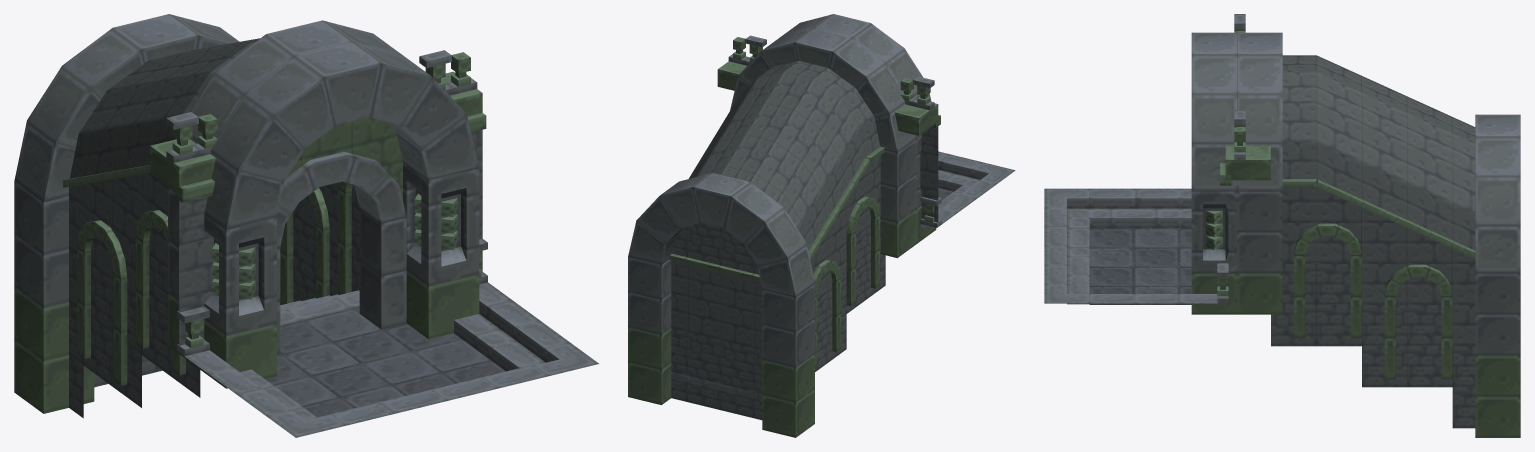
File: exit_2_stairs_down_green.fbx
The picture shows the model from 3 angles, left to right: view 1: azimuth 30°, elevation 25°; view 2: azimuth 150°, elevation 25°; view 3: azimuth 270°, elevation 25°; orthographic projection. The views are drawn at different scales.
Visible parts, largest first — view 1: exit_2_stairs_down_green; view 2: exit_2_stairs_down_green; view 3: exit_2_stairs_down_green.
Part boxes in pixels (<box>): exit_2_stairs_down_green: <box>14,14,598,437</box>; exit_2_stairs_down_green: <box>628,14,1015,437</box>; exit_2_stairs_down_green: <box>1044,14,1520,437</box>.
Bounding box in the file's own units: 96 × 135 × 168.
